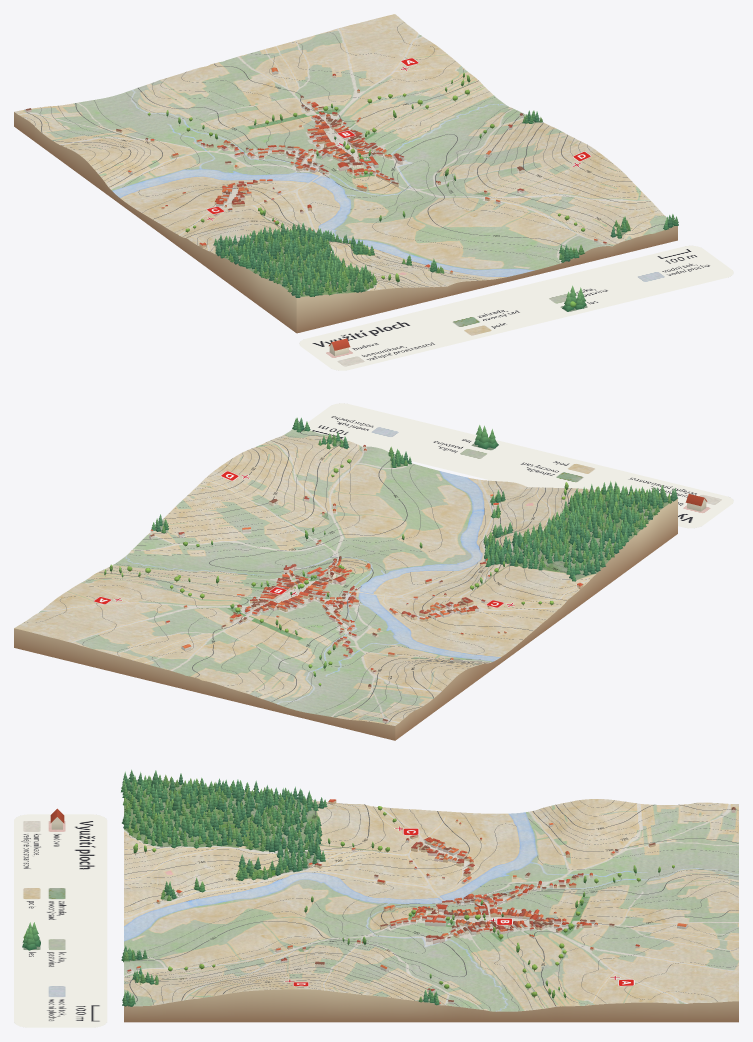
Rendered from Frymburk_sada3_otazka2.glb.
3 renders of one model, top to bottom at view 1: azimuth 30°, elevation 25°; view 2: azimuth 150°, elevation 25°; view 3: azimuth 270°, elevation 25°, orthographic. The views are drawn at different scales.
Parts seen in each view (by area): view 1: DMR_SMO5, legenda_panel, stromy_SMO5, vrstevnice, budovy_SMO5, legenda_objekty; view 2: DMR_SMO5, legenda_panel, stromy_SMO5, vrstevnice, budovy_SMO5, legenda_objekty; view 3: DMR_SMO5, legenda_panel, stromy_SMO5, vrstevnice, budovy_SMO5, legenda_objekty.
Boxes of the visible parts, bbox=[...] form: DMR_SMO5: bbox=[14, 14, 677, 333]; legenda_panel: bbox=[299, 245, 733, 370]; stromy_SMO5: bbox=[147, 72, 678, 297]; vrstevnice: bbox=[23, 22, 664, 296]; budovy_SMO5: bbox=[25, 67, 607, 273]; legenda_objekty: bbox=[329, 285, 586, 356]; DMR_SMO5: bbox=[14, 429, 677, 740]; legenda_panel: bbox=[303, 403, 733, 528]; stromy_SMO5: bbox=[104, 417, 677, 686]; vrstevnice: bbox=[24, 430, 648, 723]; budovy_SMO5: bbox=[149, 445, 583, 722]; legenda_objekty: bbox=[474, 425, 707, 511]; DMR_SMO5: bbox=[124, 780, 738, 1022]; legenda_panel: bbox=[14, 814, 107, 1027]; stromy_SMO5: bbox=[121, 769, 674, 1006]; vrstevnice: bbox=[124, 790, 738, 1010]; budovy_SMO5: bbox=[126, 799, 735, 1005]; legenda_objekty: bbox=[22, 808, 64, 950].
Bounding box in the file's own units: 1490 × 186 × 2140.
Materials: 13 (7 with a texture image).
